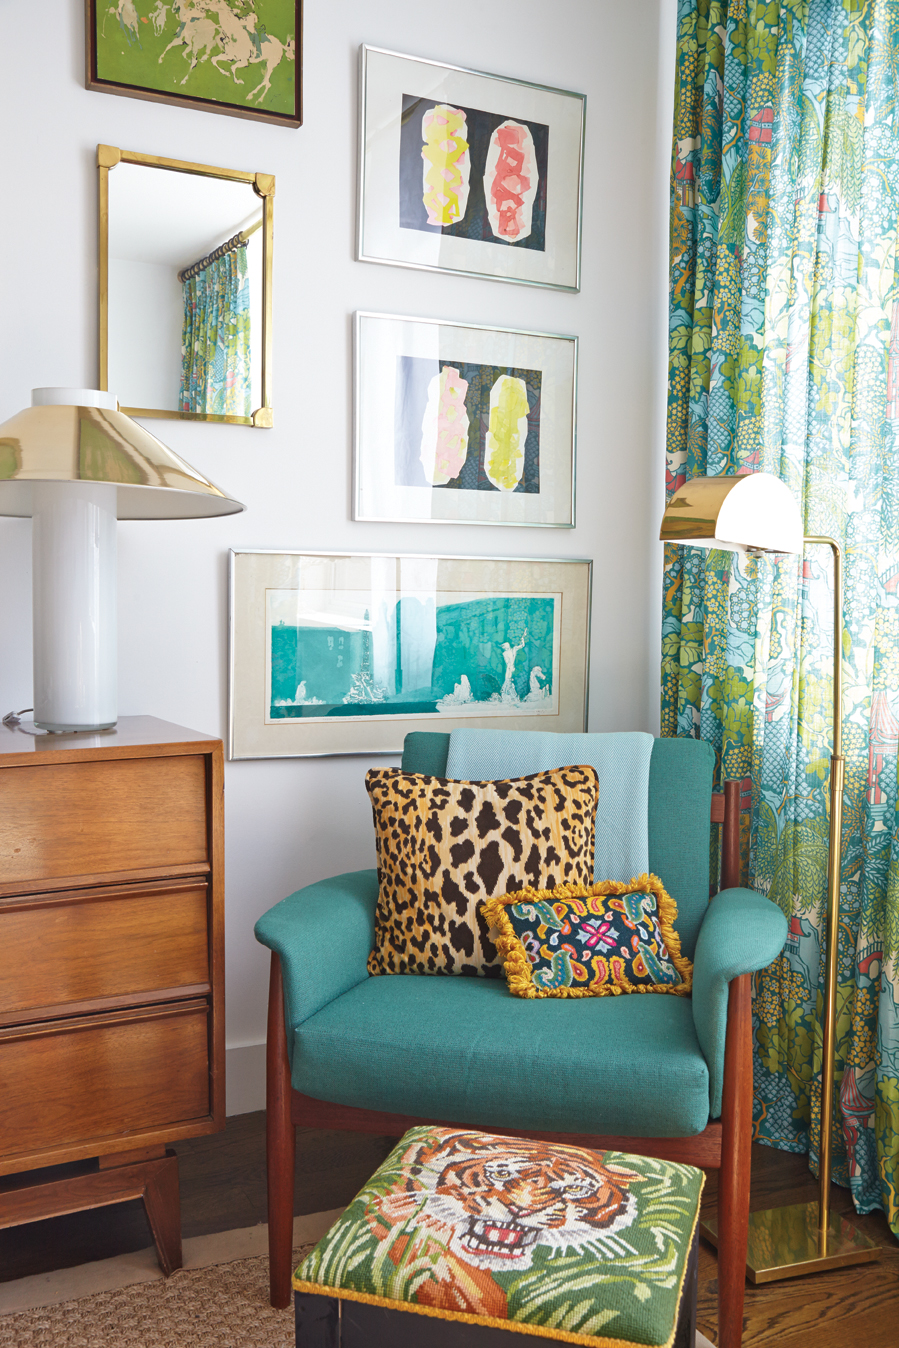hijau: (288, 734, 783, 1107)
putih: (30, 498, 123, 728)
